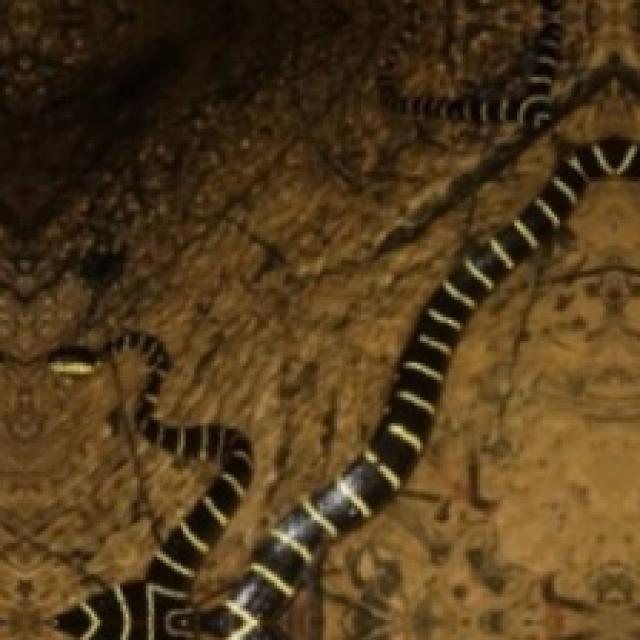mangrove cat snake: (48, 139, 640, 640), (381, 0, 561, 134)
